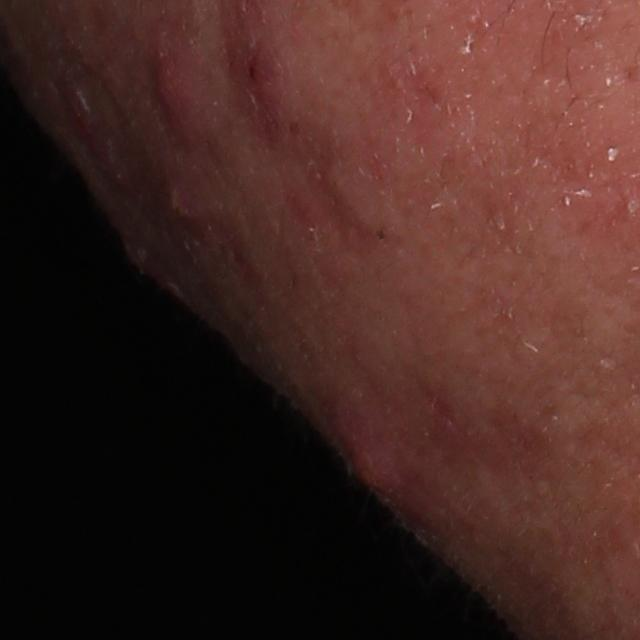papule: (228, 34, 291, 119), (149, 55, 197, 123)
pustule: (164, 179, 204, 227)
